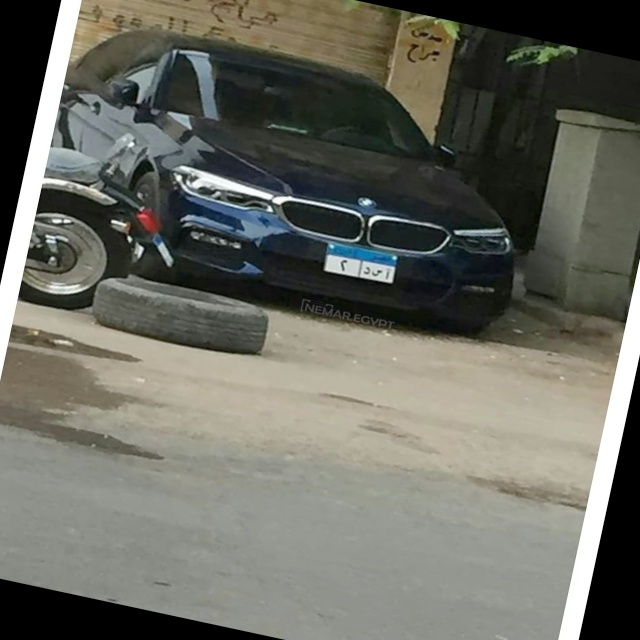License Plate: (319, 237, 403, 289)
